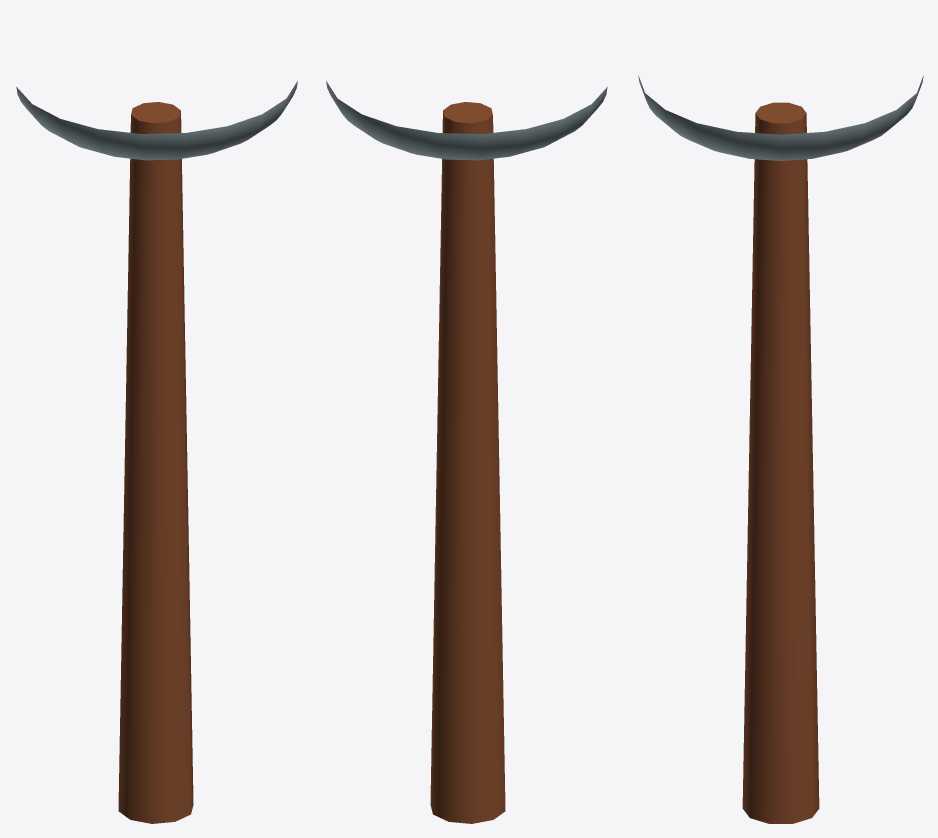
The model's file is ladle.glb.
3 renders of one model, left to right at view 1: azimuth 30°, elevation 25°; view 2: azimuth 150°, elevation 25°; view 3: azimuth 270°, elevation 25°, orthographic.
Visible parts, largest first — view 1: ladle; view 2: ladle; view 3: ladle.
Part boxes in pixels (x1,y1,x2,y2): ladle: [16, 81, 297, 823]; ladle: [326, 81, 607, 823]; ladle: [638, 75, 923, 823].
Bounding box in the file's own units: 0.134 × 0.38 × 0.134.
